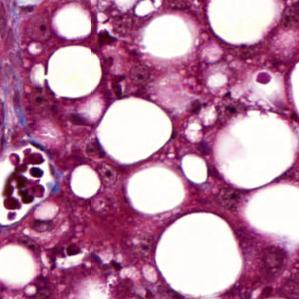steatosis: (208, 0, 276, 46), (128, 163, 187, 216)
